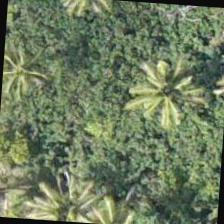Kelapa_Sawit: (125, 37, 221, 133), (0, 30, 59, 124), (0, 166, 90, 222)
